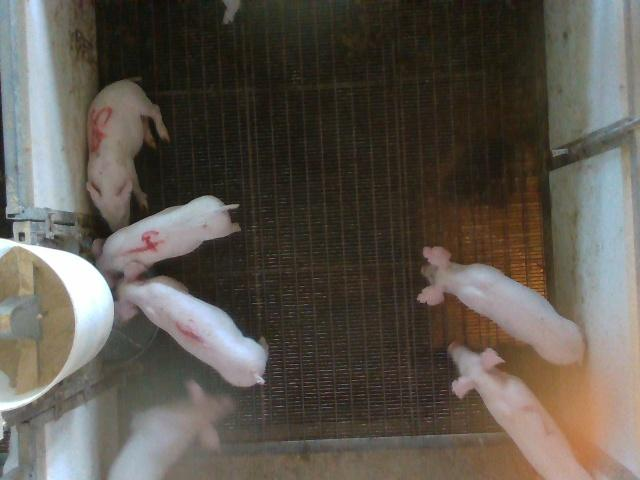pig-1: (115, 261, 269, 386)
pig-2: (449, 342, 591, 479)
pig-4: (96, 195, 239, 274)
pig-5: (86, 79, 170, 231)
